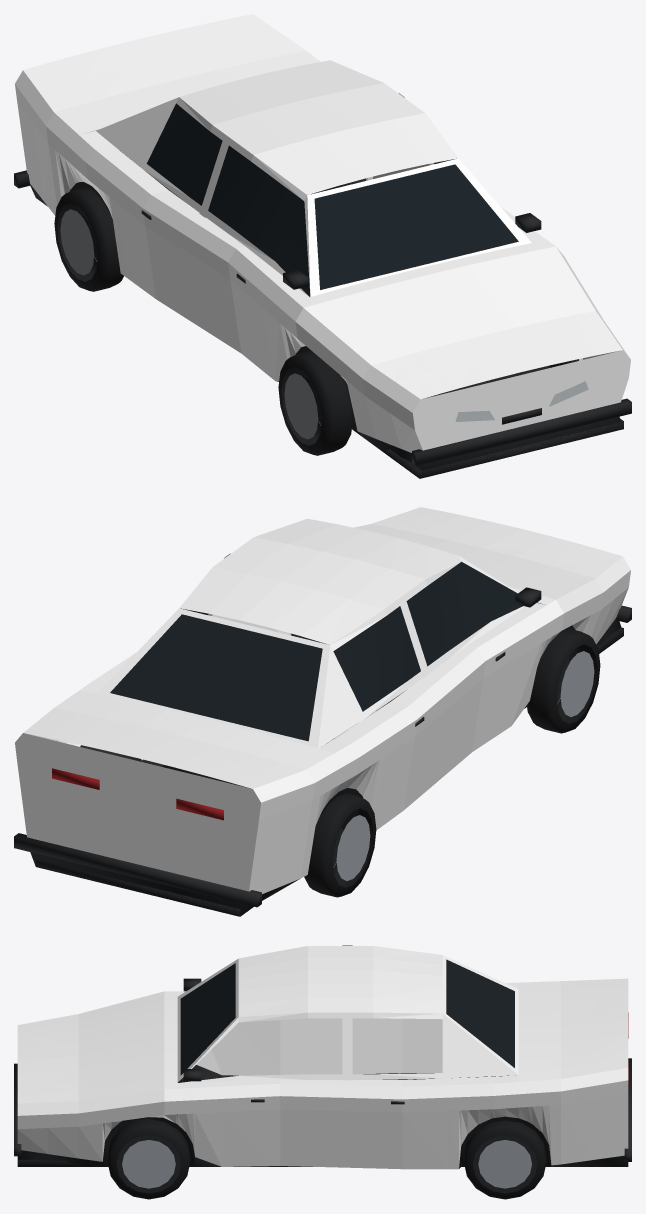
The model's file is mizuchi_norte.glb.
The picture shows the model from 3 angles, top to bottom: view 1: azimuth 30°, elevation 25°; view 2: azimuth 150°, elevation 25°; view 3: azimuth 270°, elevation 25°; orthographic projection. The views are drawn at different scales.
Visible parts, largest first — view 1: Body_Paint, Body_Details, Mount_FrontLeft_Wheel_Details, Mount_RearLeft_Wheel_Details; view 2: Body_Paint, Body_Details, Mount_FrontLeft_Wheel_Details, Mount_RearLeft_Wheel_Details; view 3: Body_Paint, Body_Details, Mount_FrontRight_Wheel_Details, Mount_RearRight_Wheel_Details.
Part boxes in pixels (left/top/right/bottom): Body_Paint: left=15, top=14, right=630, bottom=452; Body_Details: left=14, top=103, right=631, bottom=478; Mount_FrontLeft_Wheel_Details: left=278, top=351, right=352, bottom=455; Mount_RearLeft_Wheel_Details: left=54, top=187, right=123, bottom=291; Body_Paint: left=15, top=507, right=630, bottom=894; Body_Details: left=14, top=561, right=631, bottom=916; Mount_FrontLeft_Wheel_Details: left=527, top=628, right=600, bottom=733; Mount_RearLeft_Wheel_Details: left=304, top=793, right=376, bottom=897; Body_Paint: left=17, top=945, right=628, bottom=1169; Body_Details: left=14, top=959, right=631, bottom=1168; Mount_FrontRight_Wheel_Details: left=107, top=1118, right=190, bottom=1199; Mount_RearRight_Wheel_Details: left=463, top=1120, right=546, bottom=1199.
Bounding box in the file's own units: 1.86 × 1.39 × 4.55.
Materials: 2 (1 with a texture image).
